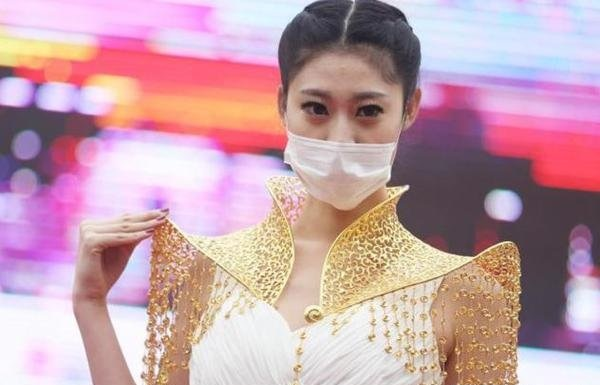face_mask: (283, 49, 406, 211)
